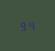four: (27, 20, 34, 30)
nine: (19, 20, 26, 31)
